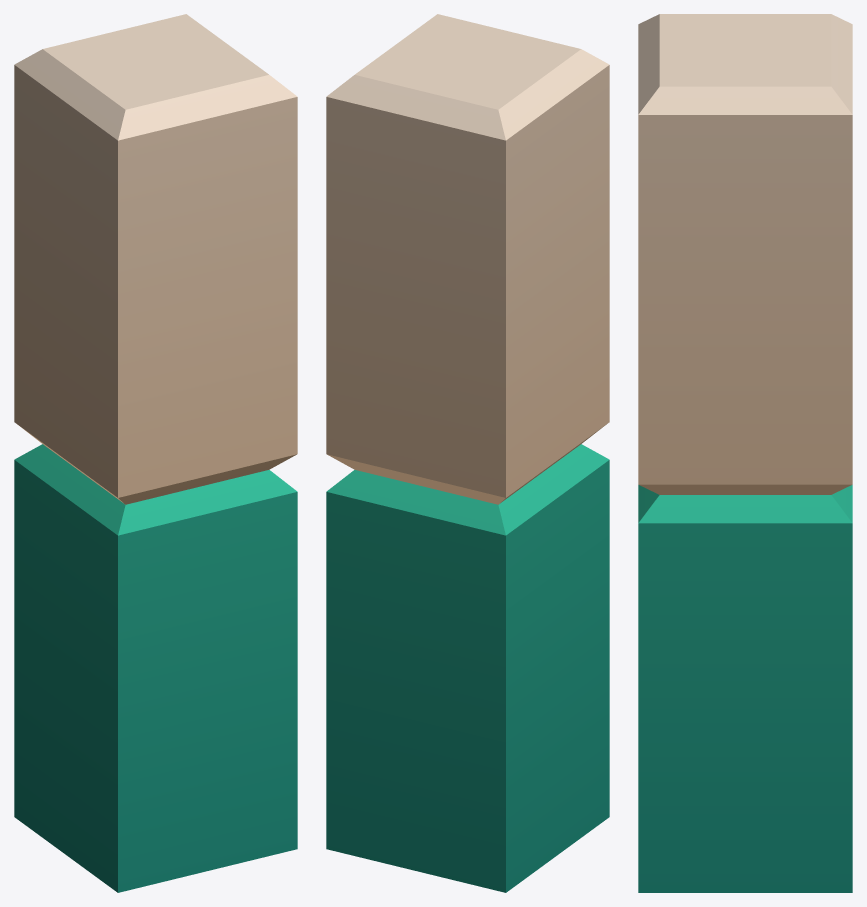
Rendered from pillar_B.obj.
The picture shows the model from 3 angles, left to right: view 1: azimuth 30°, elevation 25°; view 2: azimuth 150°, elevation 25°; view 3: azimuth 270°, elevation 25°; orthographic projection. The views are drawn at different scales.
Visible parts, largest first — view 1: pillar_B_Cube.150; view 2: pillar_B_Cube.150; view 3: pillar_B_Cube.150.
Part boxes in pixels (x1,y1,x2,y2): pillar_B_Cube.150: (14,14,297,892); pillar_B_Cube.150: (326,14,609,892); pillar_B_Cube.150: (638,14,852,892).
Size of the model in its own units: 1 by 4.1 by 1.
Materials: 1 (1 with a texture image).
